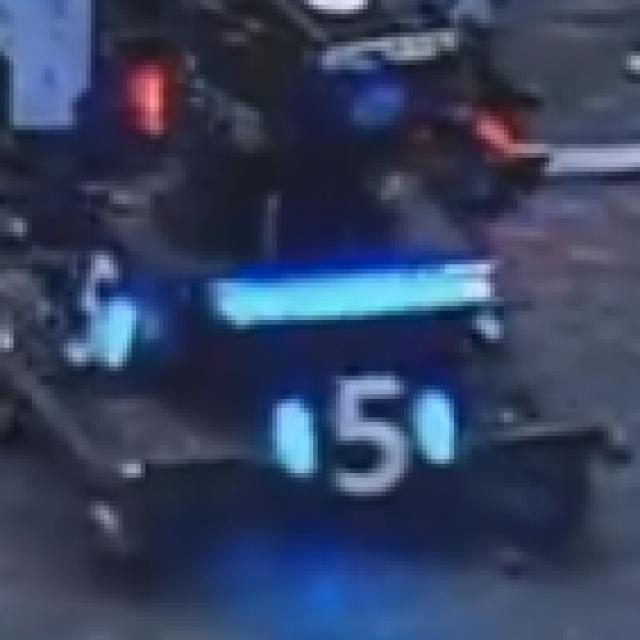B5: (272, 376, 454, 482)
